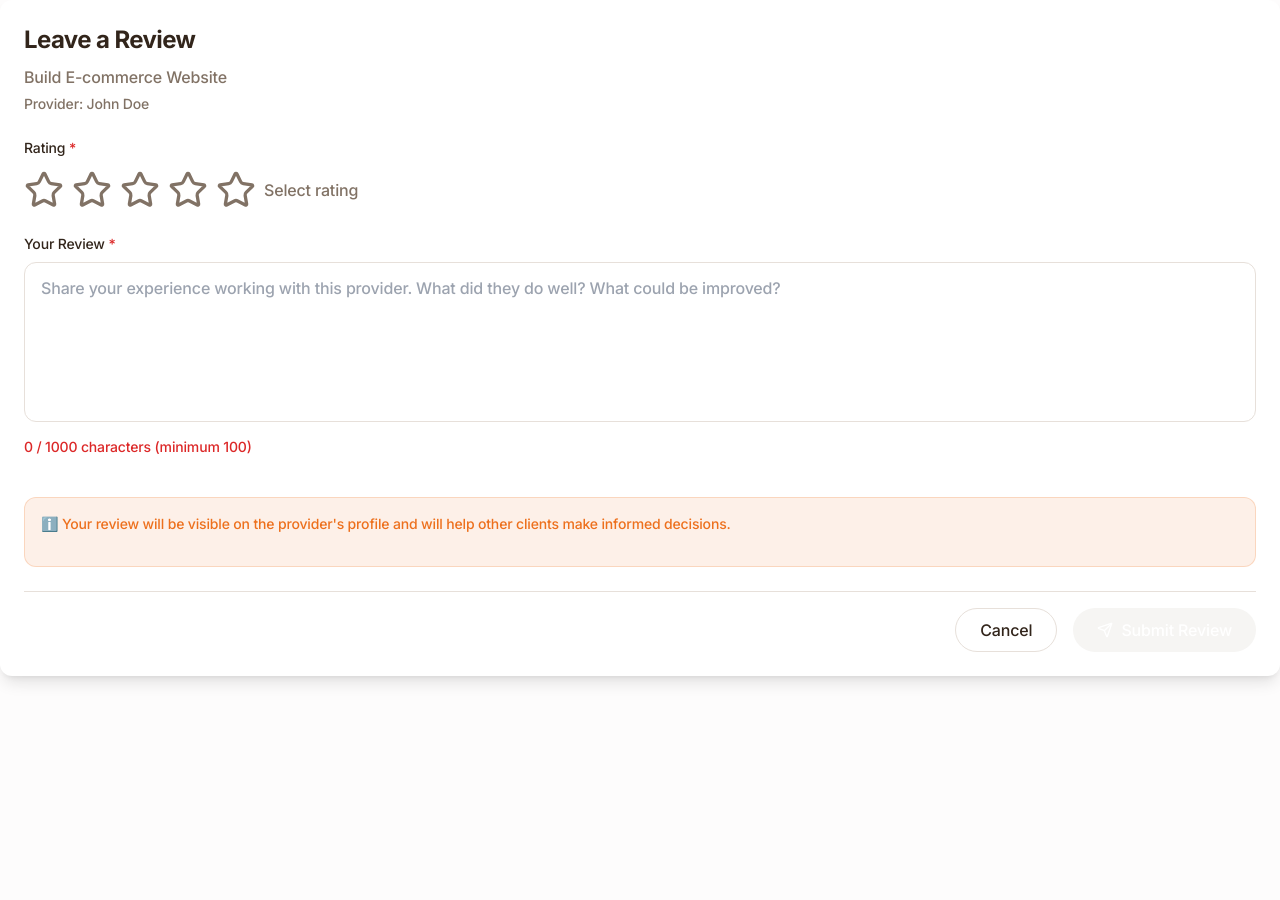
Test: ReviewForm › Star Rating › should show singular "star" for rating of 1
This screenshot has width=1280, height=900.
Click the 1st button at (44, 190), box [24,170,64,210]
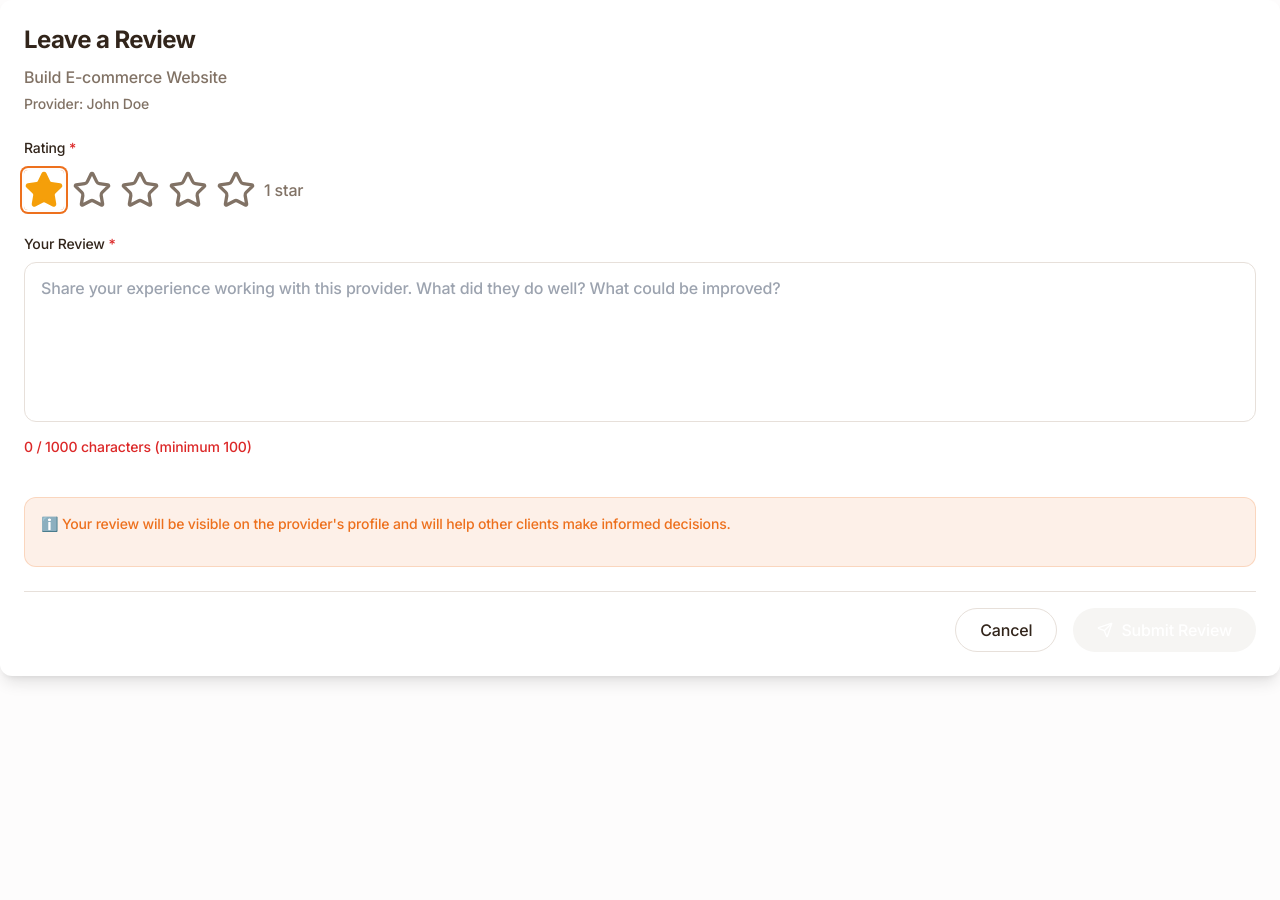
Now the text "1 star" is shown, box [264,177,303,203]
